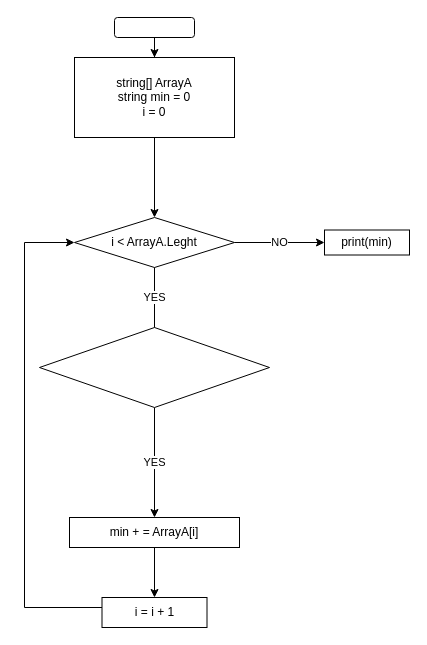
The diagram is 427 pixels wide and 645 high, and some of its shapes have lost their labels. Each missing label, with the centre of its shape:
ArrayA[i].Leght < = 3: pixel 154 367
Start: pixel 154 27
